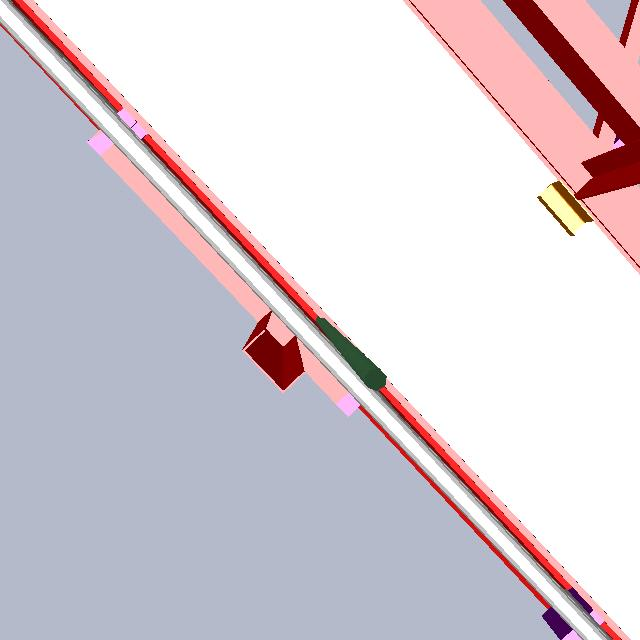Poste: (308, 303, 397, 400)
Soporte: (212, 253, 331, 417)
